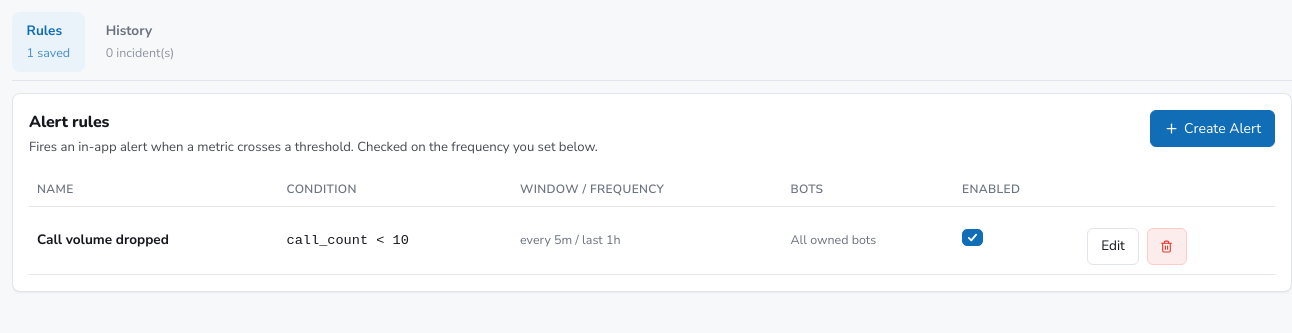
Test: AlertsPanel toggle-enabled round-trip › does not optimistically flip the checkbox before the request resolves, and shows an error on failure
Click the checkbox named "disable rule". click: (973, 237)
box: [962,229,983,246]
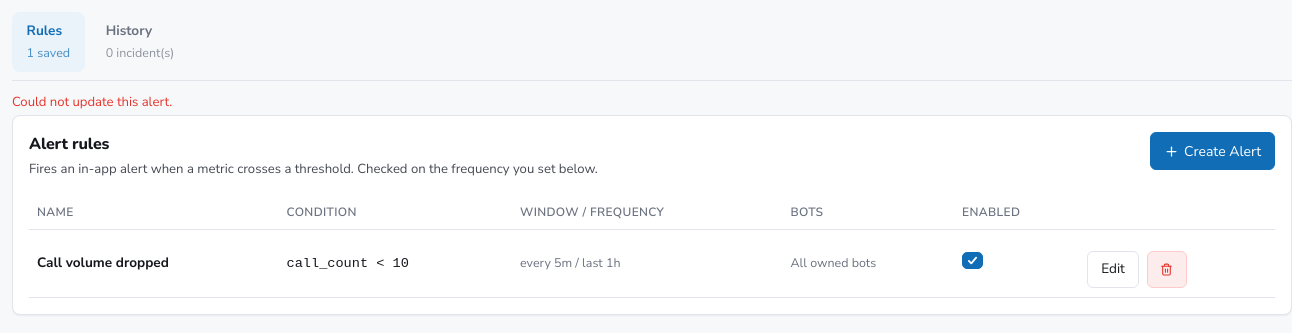
Expected: the checkbox named "disable rule" is checked, [962,252,983,269]
Result: the text "Could not update this alert." is shown at [12,92,172,110]
